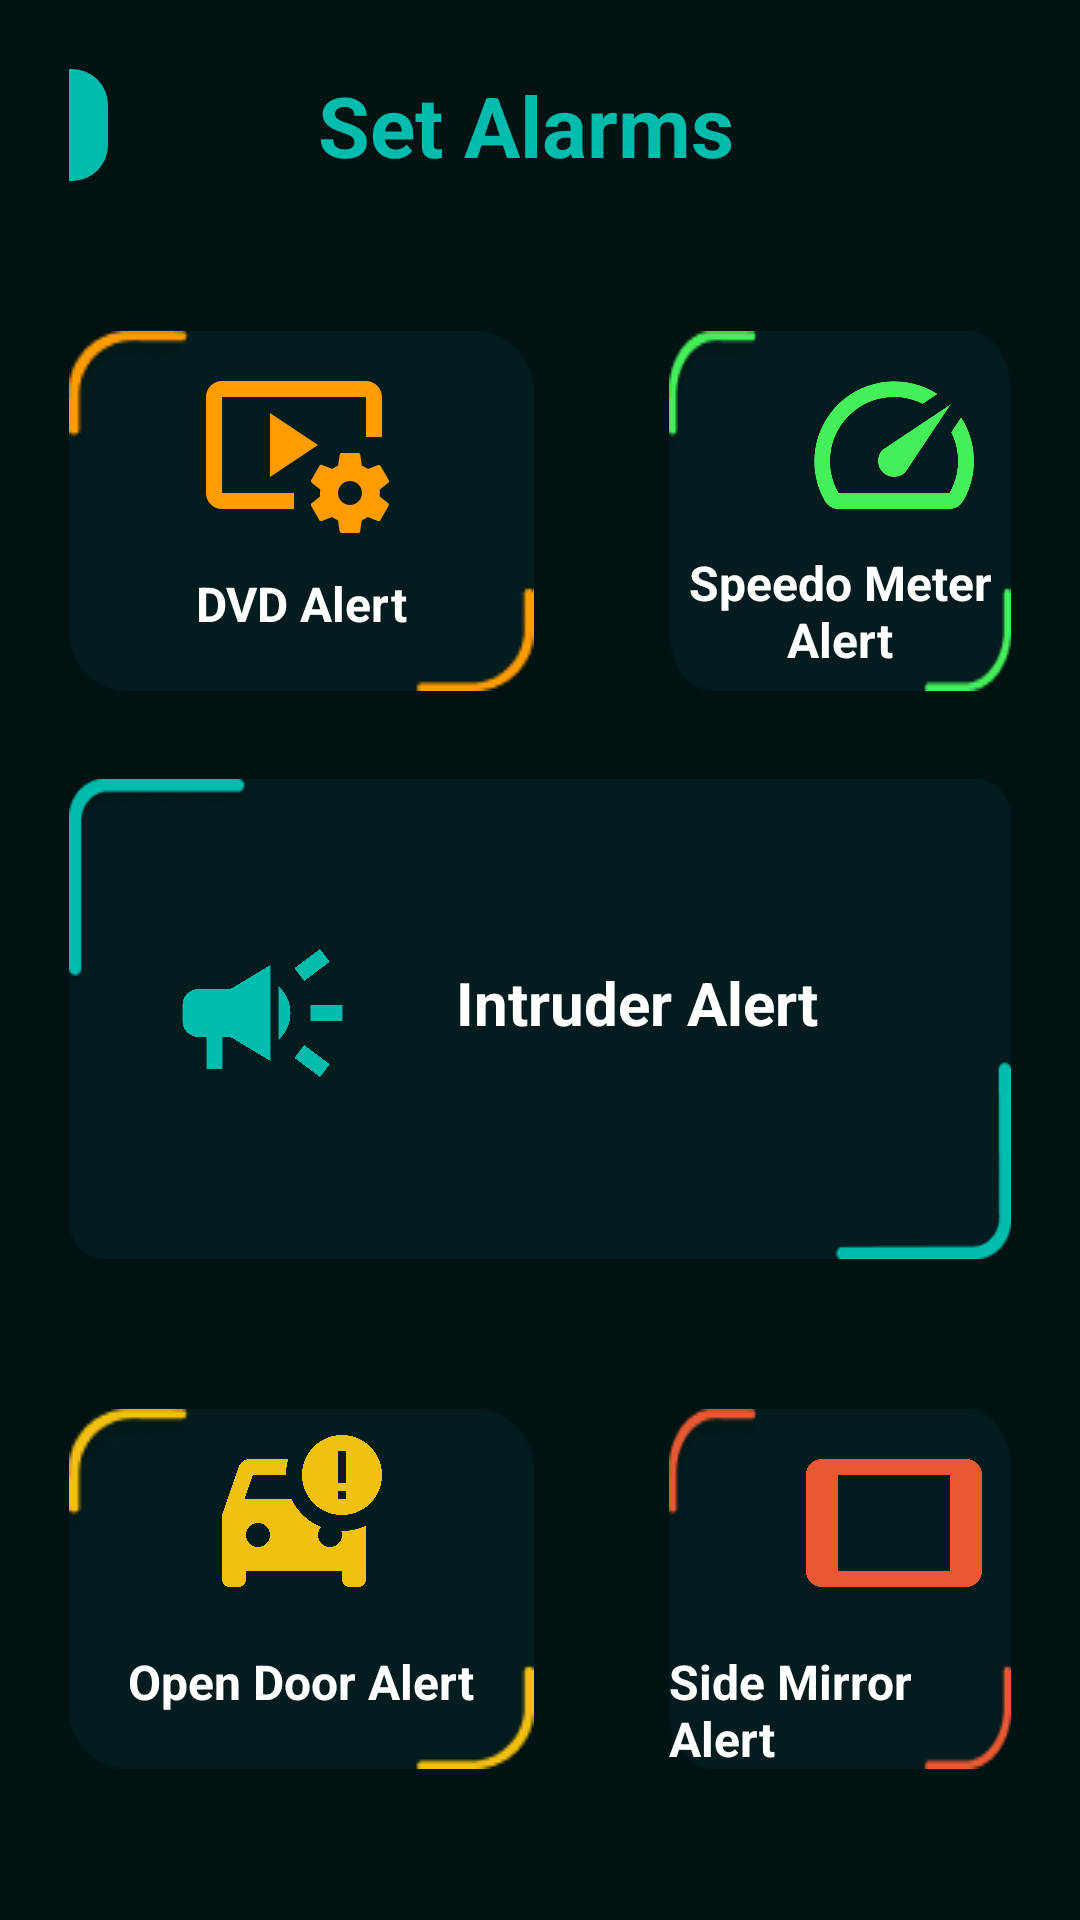

Icons on this 1080 × 1920 Android screen, each with the point to tap as (x,y):
campaign: (262,1013)
